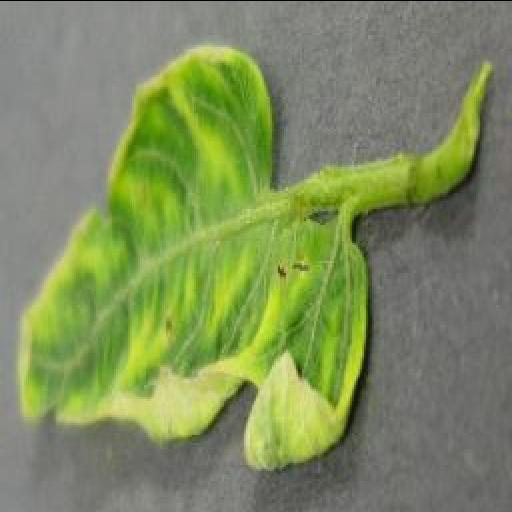disease_tomato: (14, 44, 368, 472)
